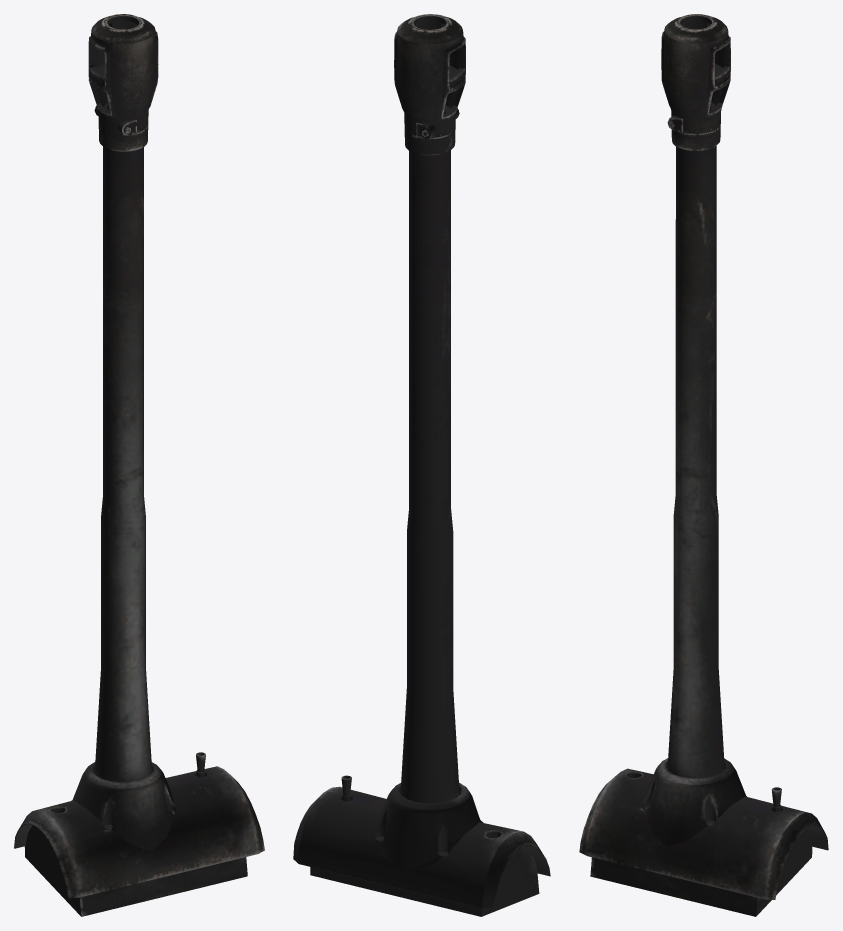
The model's file is Gun_01.glb.
3 renders of one model, left to right at view 1: azimuth 30°, elevation 25°; view 2: azimuth 150°, elevation 25°; view 3: azimuth 330°, elevation 25°, orthographic. The views are drawn at different scales.
Visible parts, largest first — view 1: set_0_group_0; view 2: set_0_group_0; view 3: set_0_group_0.
Part boxes in pixels (box(x1,y1,x2,y2)): set_0_group_0: box(14, 14, 264, 916); set_0_group_0: box(293, 14, 550, 916); set_0_group_0: box(579, 14, 828, 916).
Bounding box in the file's own units: 1.06 × 4.39 × 0.5491.
1 material, 1 textured.
